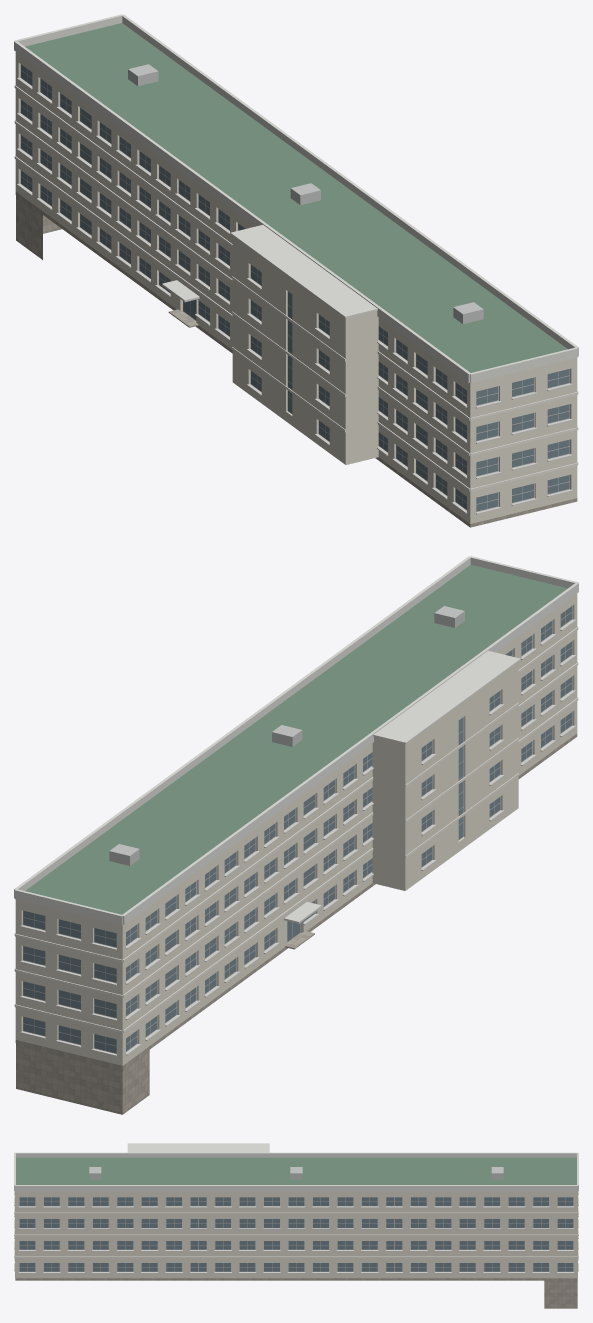
3 renders of one model, top to bottom at view 1: azimuth 30°, elevation 25°; view 2: azimuth 150°, elevation 25°; view 3: azimuth 270°, elevation 25°, orthographic. The views are drawn at different scales.
Parts seen in each view (by area): view 1: mg-east__ivory, mg-east__roof, mg-east__cap, mg-east__glass, mg-east__band, mg-east__sill, mg-east__frame, mg-east__stone, mg-east__plant; view 2: mg-east__ivory, mg-east__roof, mg-east__cap, mg-east__glass, mg-east__stone, mg-east__band, mg-east__sill, mg-east__frame, mg-east__plant; view 3: mg-east__ivory, mg-east__roof, mg-east__glass, mg-east__cap, mg-east__frame, mg-east__band, mg-east__sill, mg-east__stone, mg-east__plant.
Part boxes in pixels (x1,y1,x2,y2): mg-east__ivory: (15,52,577,523); mg-east__roof: (25,23,567,372); mg-east__cap: (14,14,578,383); mg-east__glass: (21,64,569,511); mg-east__band: (14,85,578,491); mg-east__sill: (17,77,572,514); mg-east__frame: (20,64,569,512); mg-east__stone: (15,192,577,527); mg-east__plant: (128,64,483,324); mg-east__ivory: (15,593,577,1065); mg-east__roof: (25,565,567,914); mg-east__cap: (14,556,578,924); mg-east__glass: (23,606,571,1053); mg-east__stone: (15,733,577,1114); mg-east__band: (14,626,578,1033); mg-east__sill: (20,619,575,1056); mg-east__frame: (23,606,572,1053); mg-east__plant: (109,606,464,865); mg-east__ivory: (15,1191,577,1278); mg-east__roof: (16,1157,576,1184); mg-east__glass: (19,1197,573,1271); mg-east__cap: (14,1143,578,1191); mg-east__frame: (19,1197,573,1271); mg-east__band: (14,1195,578,1258); mg-east__sill: (14,1191,578,1273); mg-east__stone: (15,1278,577,1308); mg-east__plant: (89,1167,503,1179).
Size of the model in its own units: 15.26 by 20.6 by 84.26.
Materials: 11 (1 with a texture image).
